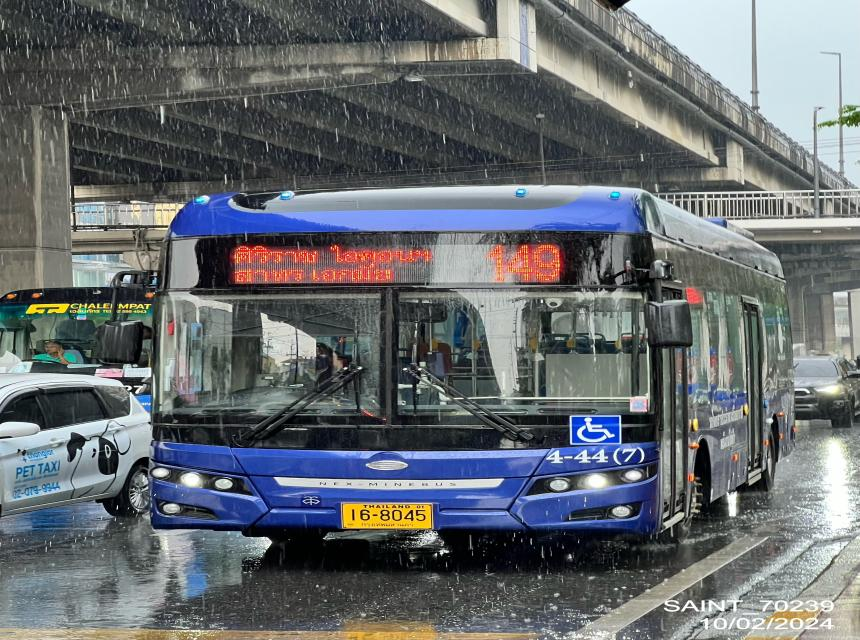Bus Line Number: (477, 238, 575, 286)
Bus Side Number: (540, 446, 651, 470)
Destination Sign: (223, 238, 445, 288)
TSB-Bus: (147, 185, 797, 567)
